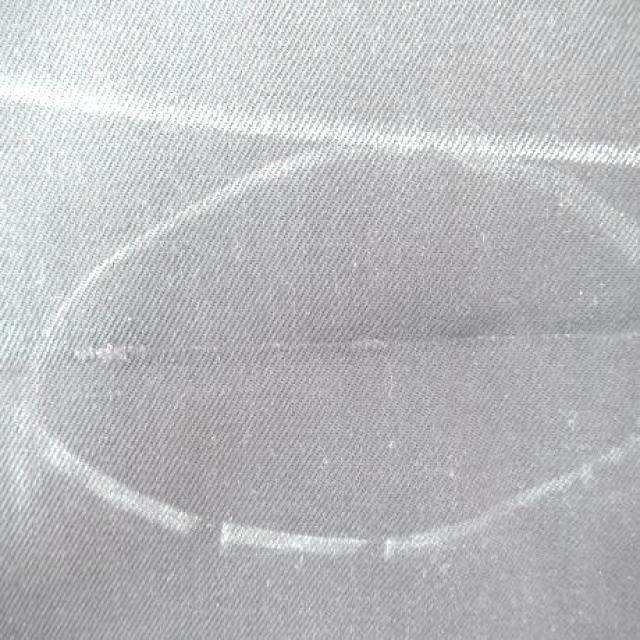Thread_other: (67, 299, 640, 445)
